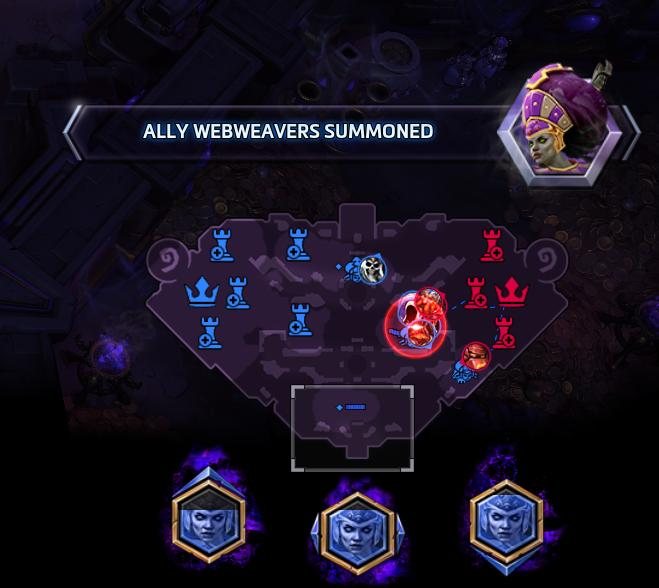blue nexus: (184, 274, 220, 308)
blue player: (392, 297, 420, 331), (358, 253, 387, 284)
blue tower: (197, 314, 223, 350), (285, 226, 311, 261), (208, 227, 234, 262), (287, 302, 313, 336), (225, 274, 250, 309)
red nexus: (493, 274, 529, 307)
red player: (411, 286, 446, 320), (460, 341, 492, 372)
red tower: (461, 275, 488, 309), (479, 227, 504, 262), (491, 314, 515, 349)
